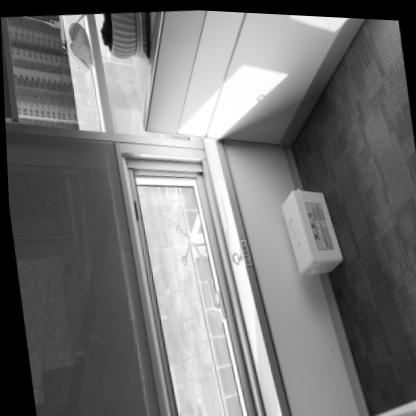DDL: (276, 181, 342, 274)
